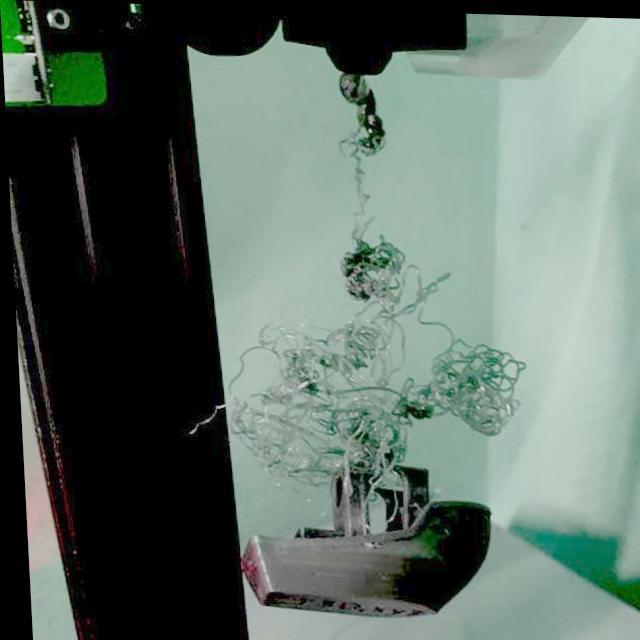spaghetti: (178, 305, 527, 528), (330, 67, 449, 312)
